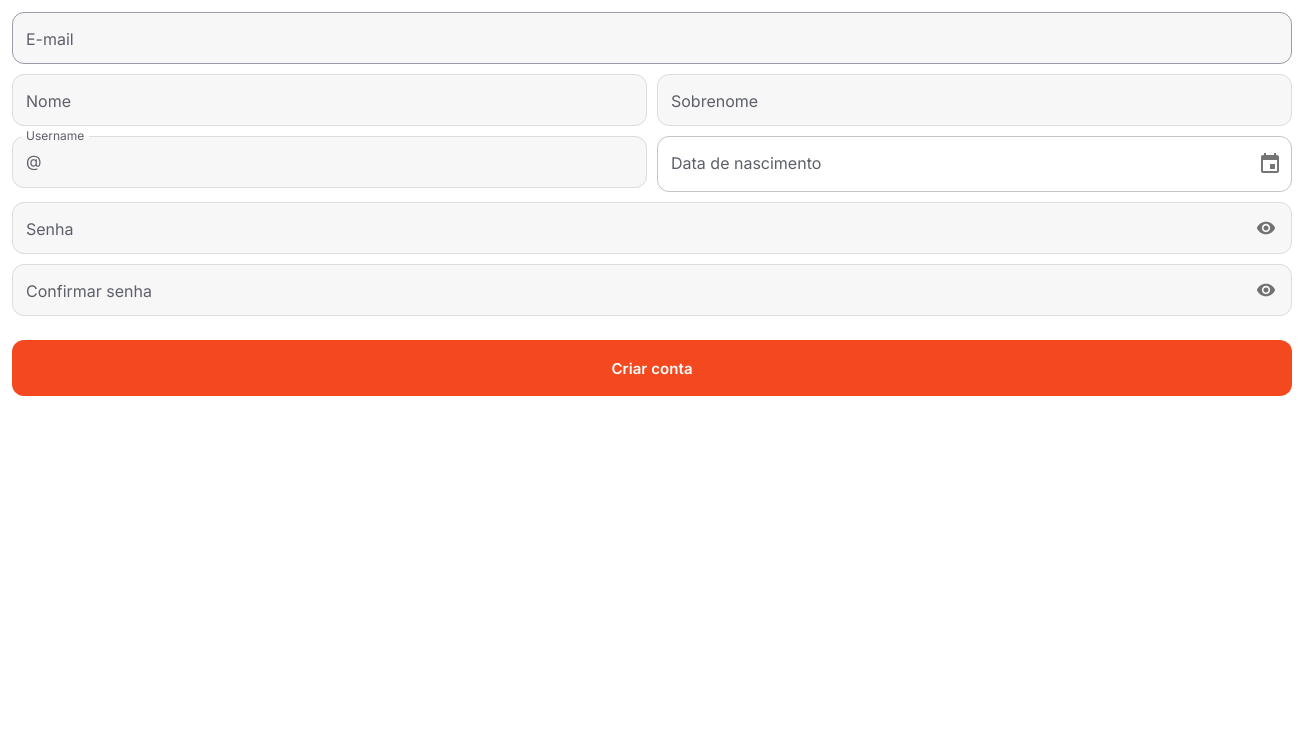
it: CreateAccountForm › toggles password visibility
The width and height of the screenshot is (1304, 732).
In the password field labelled "Senha": (628, 228) [12,202,1243,254], type "Abcdefgh123!"
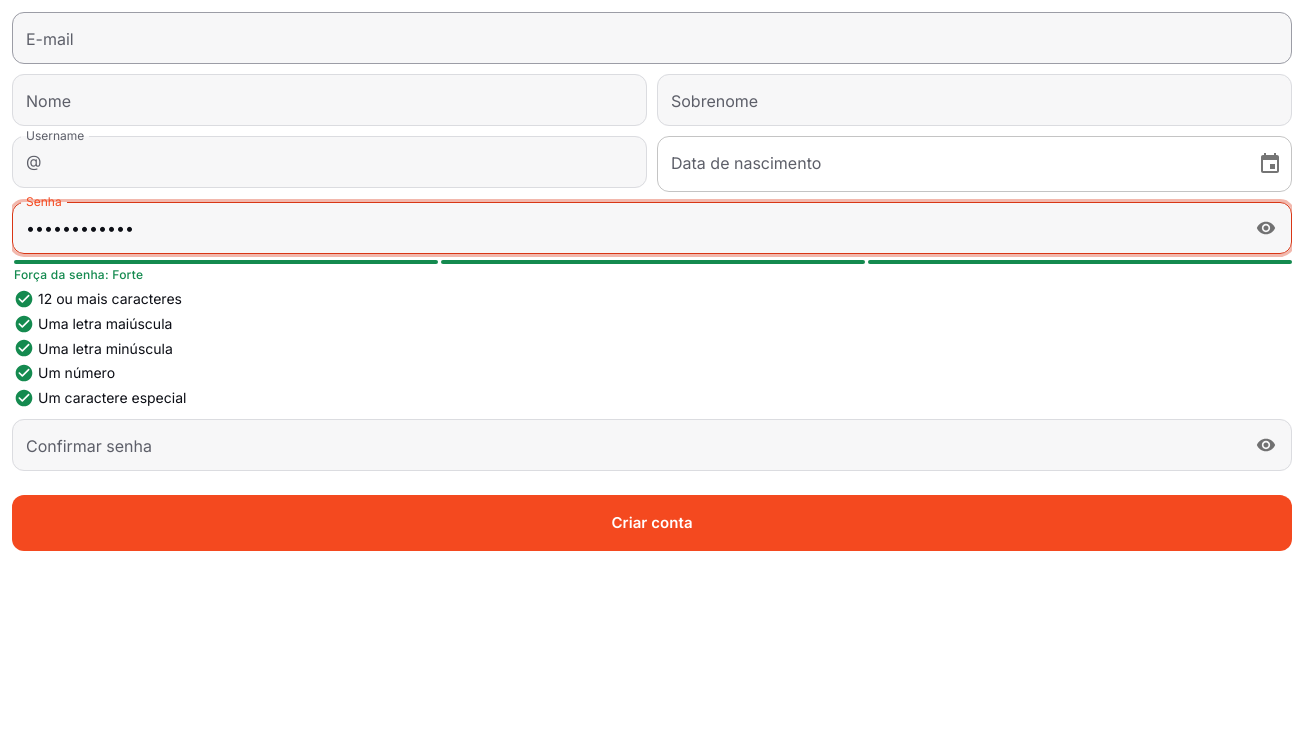
Click the 1st button named "Mostrar senha": (1266, 228) [1251,213,1281,243]
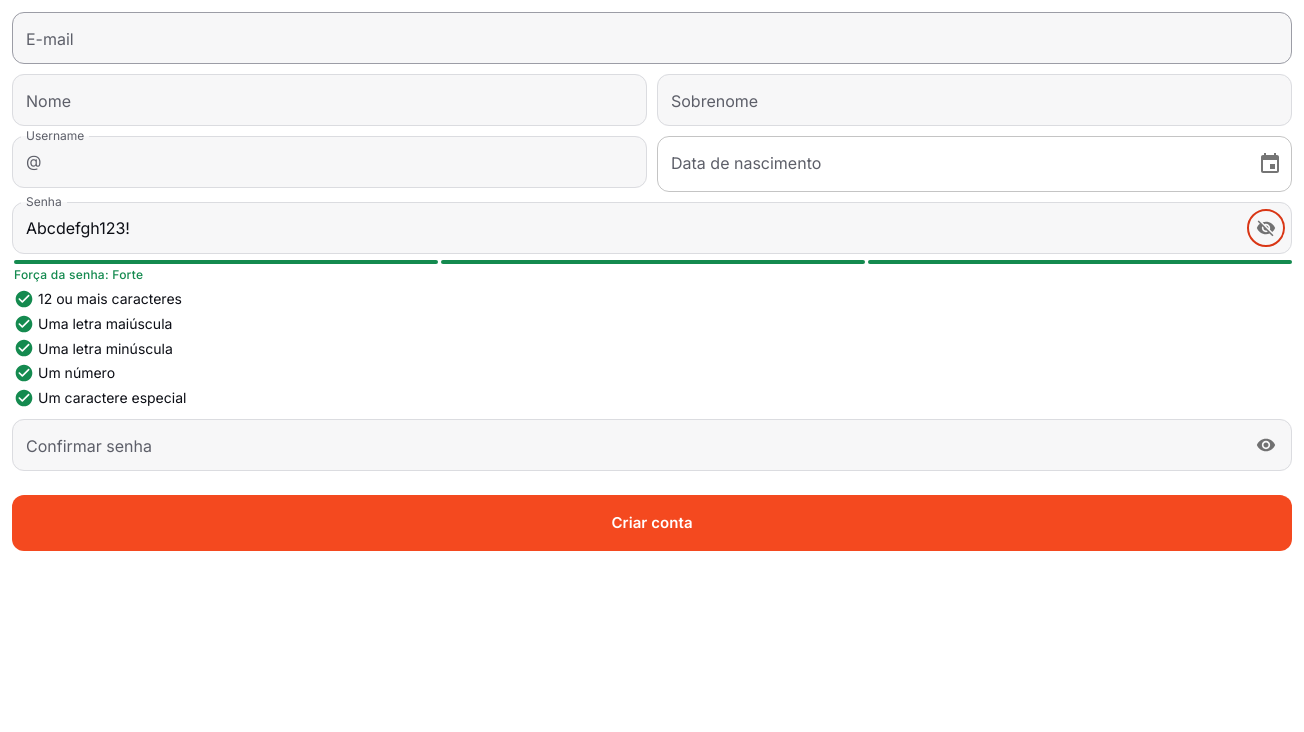
Result: the field labelled "Senha" shows its text at [12,202,1243,254]
